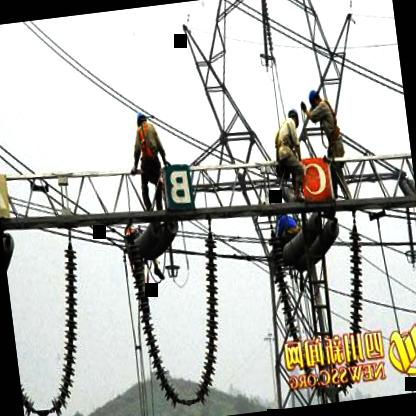helmet: (283, 102, 301, 132), (306, 85, 323, 112), (132, 108, 150, 132)
